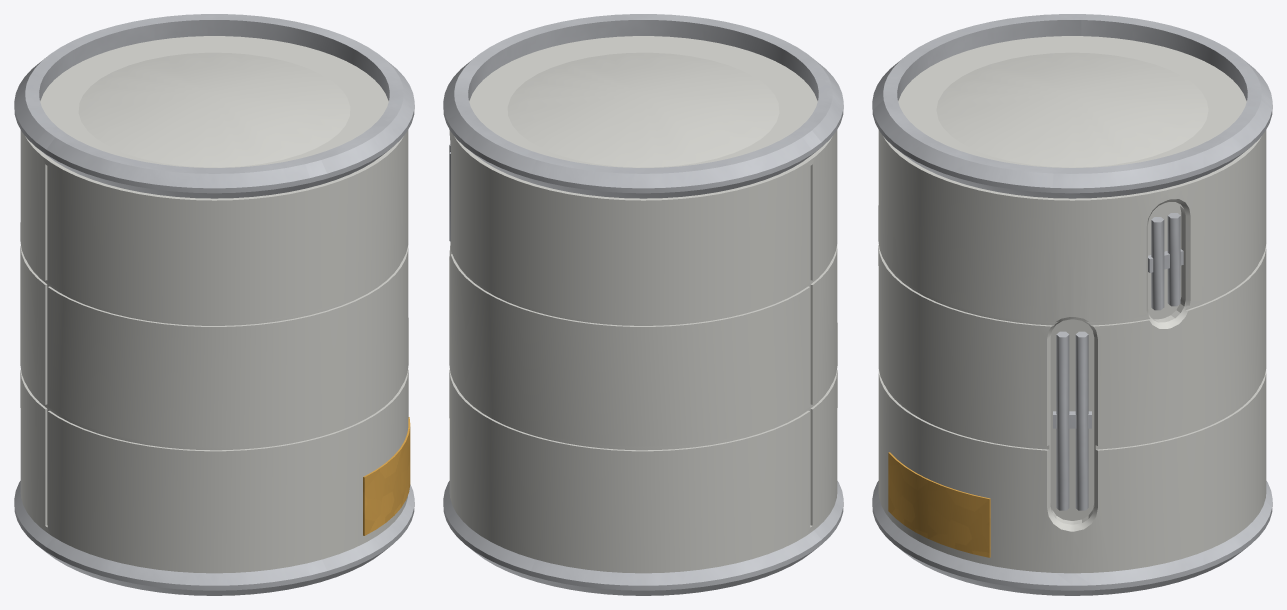
File: ax_tank_01_modern_methalox_s_short.glb
3 renders of one model, left to right at view 1: azimuth 30°, elevation 25°; view 2: azimuth 150°, elevation 25°; view 3: azimuth 270°, elevation 25°, orthographic.
Parts seen in each view (by area): view 1: tank_barrel, dome_caps, end_rings, mli_patch; view 2: tank_barrel, dome_caps, end_rings; view 3: tank_barrel, dome_caps, end_rings, raceway_lines, mli_patch.
Boxes of the visible parts, box(x1,y1,x2,y2) form: tank_barrel: box(20, 130, 408, 573); dome_caps: box(40, 36, 388, 167); end_rings: box(14, 14, 414, 595); mli_patch: box(363, 417, 410, 535); tank_barrel: box(449, 129, 837, 573); dome_caps: box(469, 36, 817, 167); end_rings: box(443, 14, 843, 595); tank_barrel: box(878, 130, 1266, 573); dome_caps: box(898, 36, 1246, 167); end_rings: box(872, 14, 1272, 595); raceway_lines: box(1053, 213, 1183, 510); mli_patch: box(888, 452, 990, 557).
Size of the model in its own units: 1.29 by 1.5 by 1.29.
3 materials, 2 textured.
